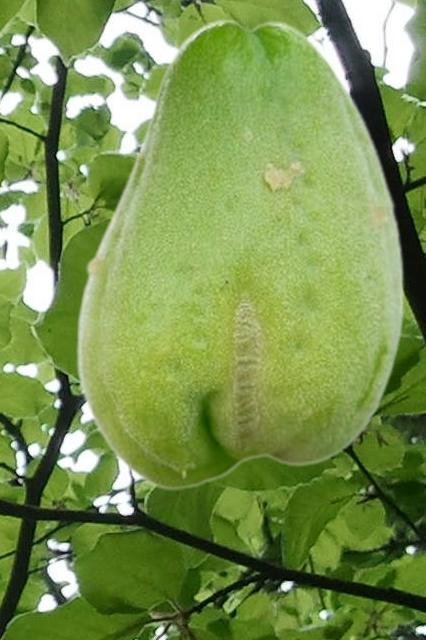sayote: (74, 17, 404, 489)
